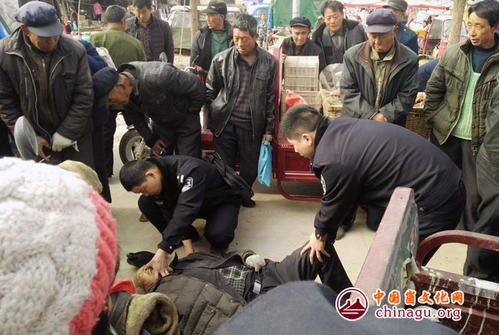10+: (1, 1, 499, 335)
down: (128, 236, 358, 335)
